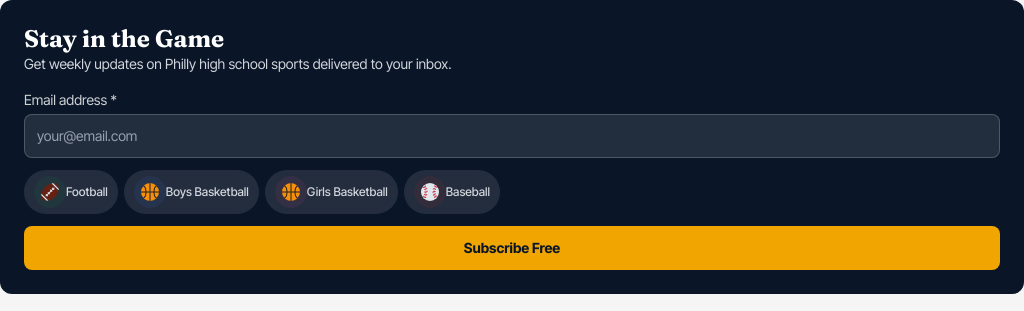
Scenario: NewsletterSignup › disables submit button while submitting
Type "test@example.com" into the field with placeholder "your@email.com" at (512, 136), box x1=24 y1=114 x2=1000 y2=158
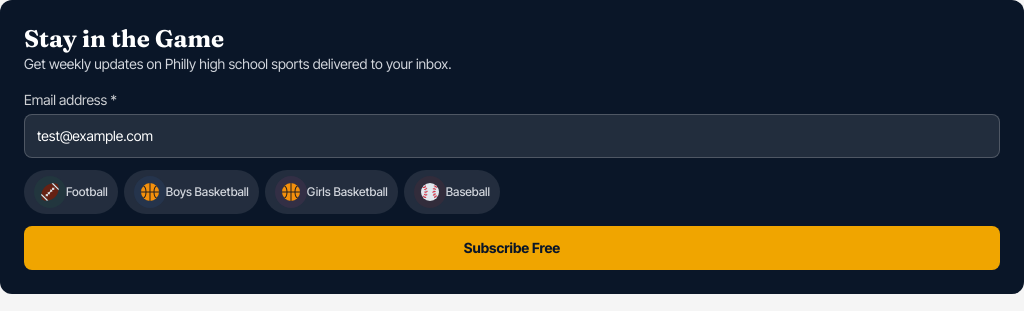
Click the button "Subscribe Free" at (512, 248), box x1=24 y1=226 x2=1000 y2=270
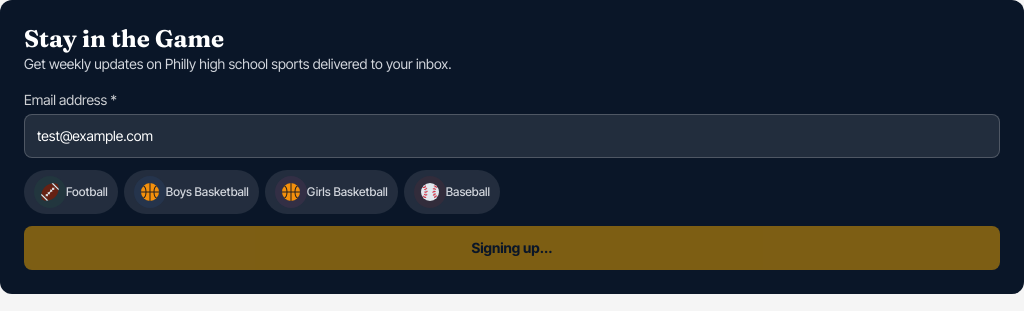
Expected: the button "Subscribe Free" is disabled, x1=24 y1=226 x2=1000 y2=270
